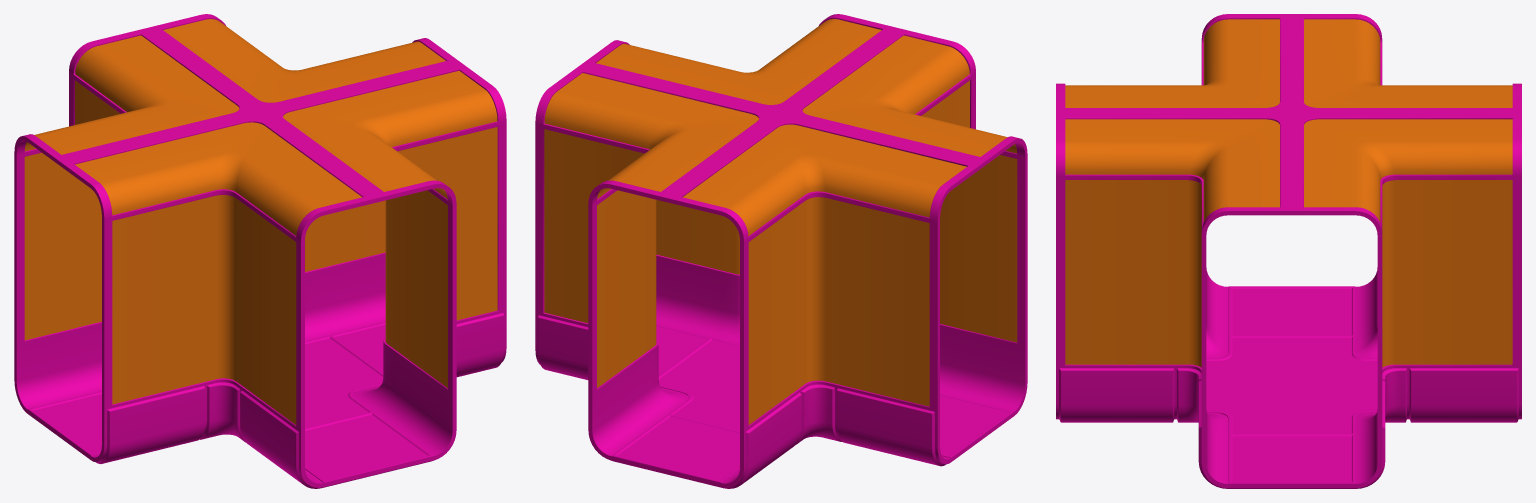
The model's file is Corridor04.fbx.
The picture shows the model from 3 angles, left to right: view 1: azimuth 30°, elevation 25°; view 2: azimuth 150°, elevation 25°; view 3: azimuth 270°, elevation 25°; orthographic projection.
Visible parts, largest first — view 1: SM_Corridor04; view 2: SM_Corridor04; view 3: SM_Corridor04.
Part boxes in pixels (x1,y1,x2,y2): SM_Corridor04: [14, 14, 506, 488]; SM_Corridor04: [535, 14, 1027, 488]; SM_Corridor04: [1056, 14, 1521, 488].
Size of the model in its own units: 4 by 2.65 by 4.
